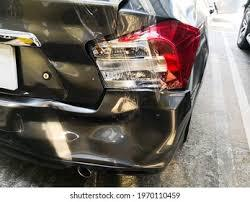Taillight-Damage: (92, 23, 198, 87)
rear-bumper-dent: (0, 81, 204, 175)
